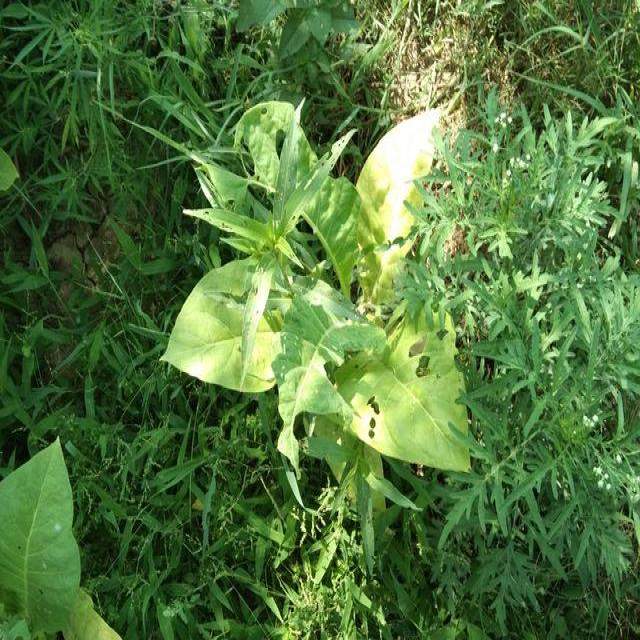crop: (187, 116, 453, 472), (7, 450, 110, 640)
